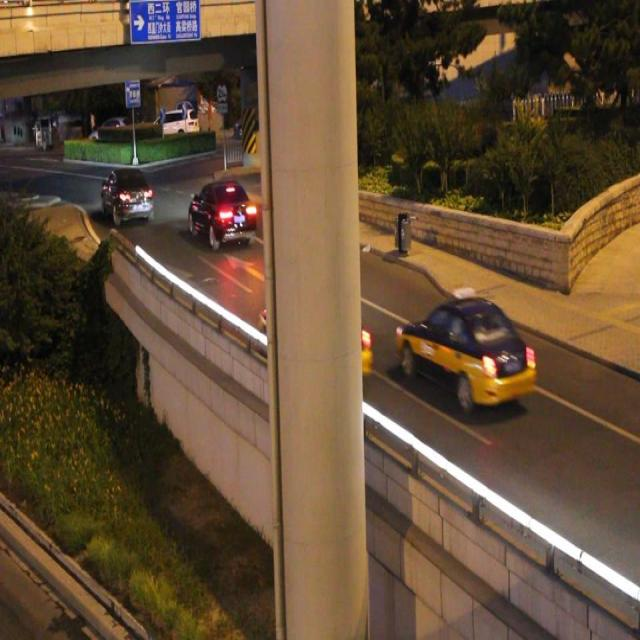car: (394, 287, 535, 406), (265, 282, 372, 384), (189, 180, 256, 248), (102, 166, 153, 226)
